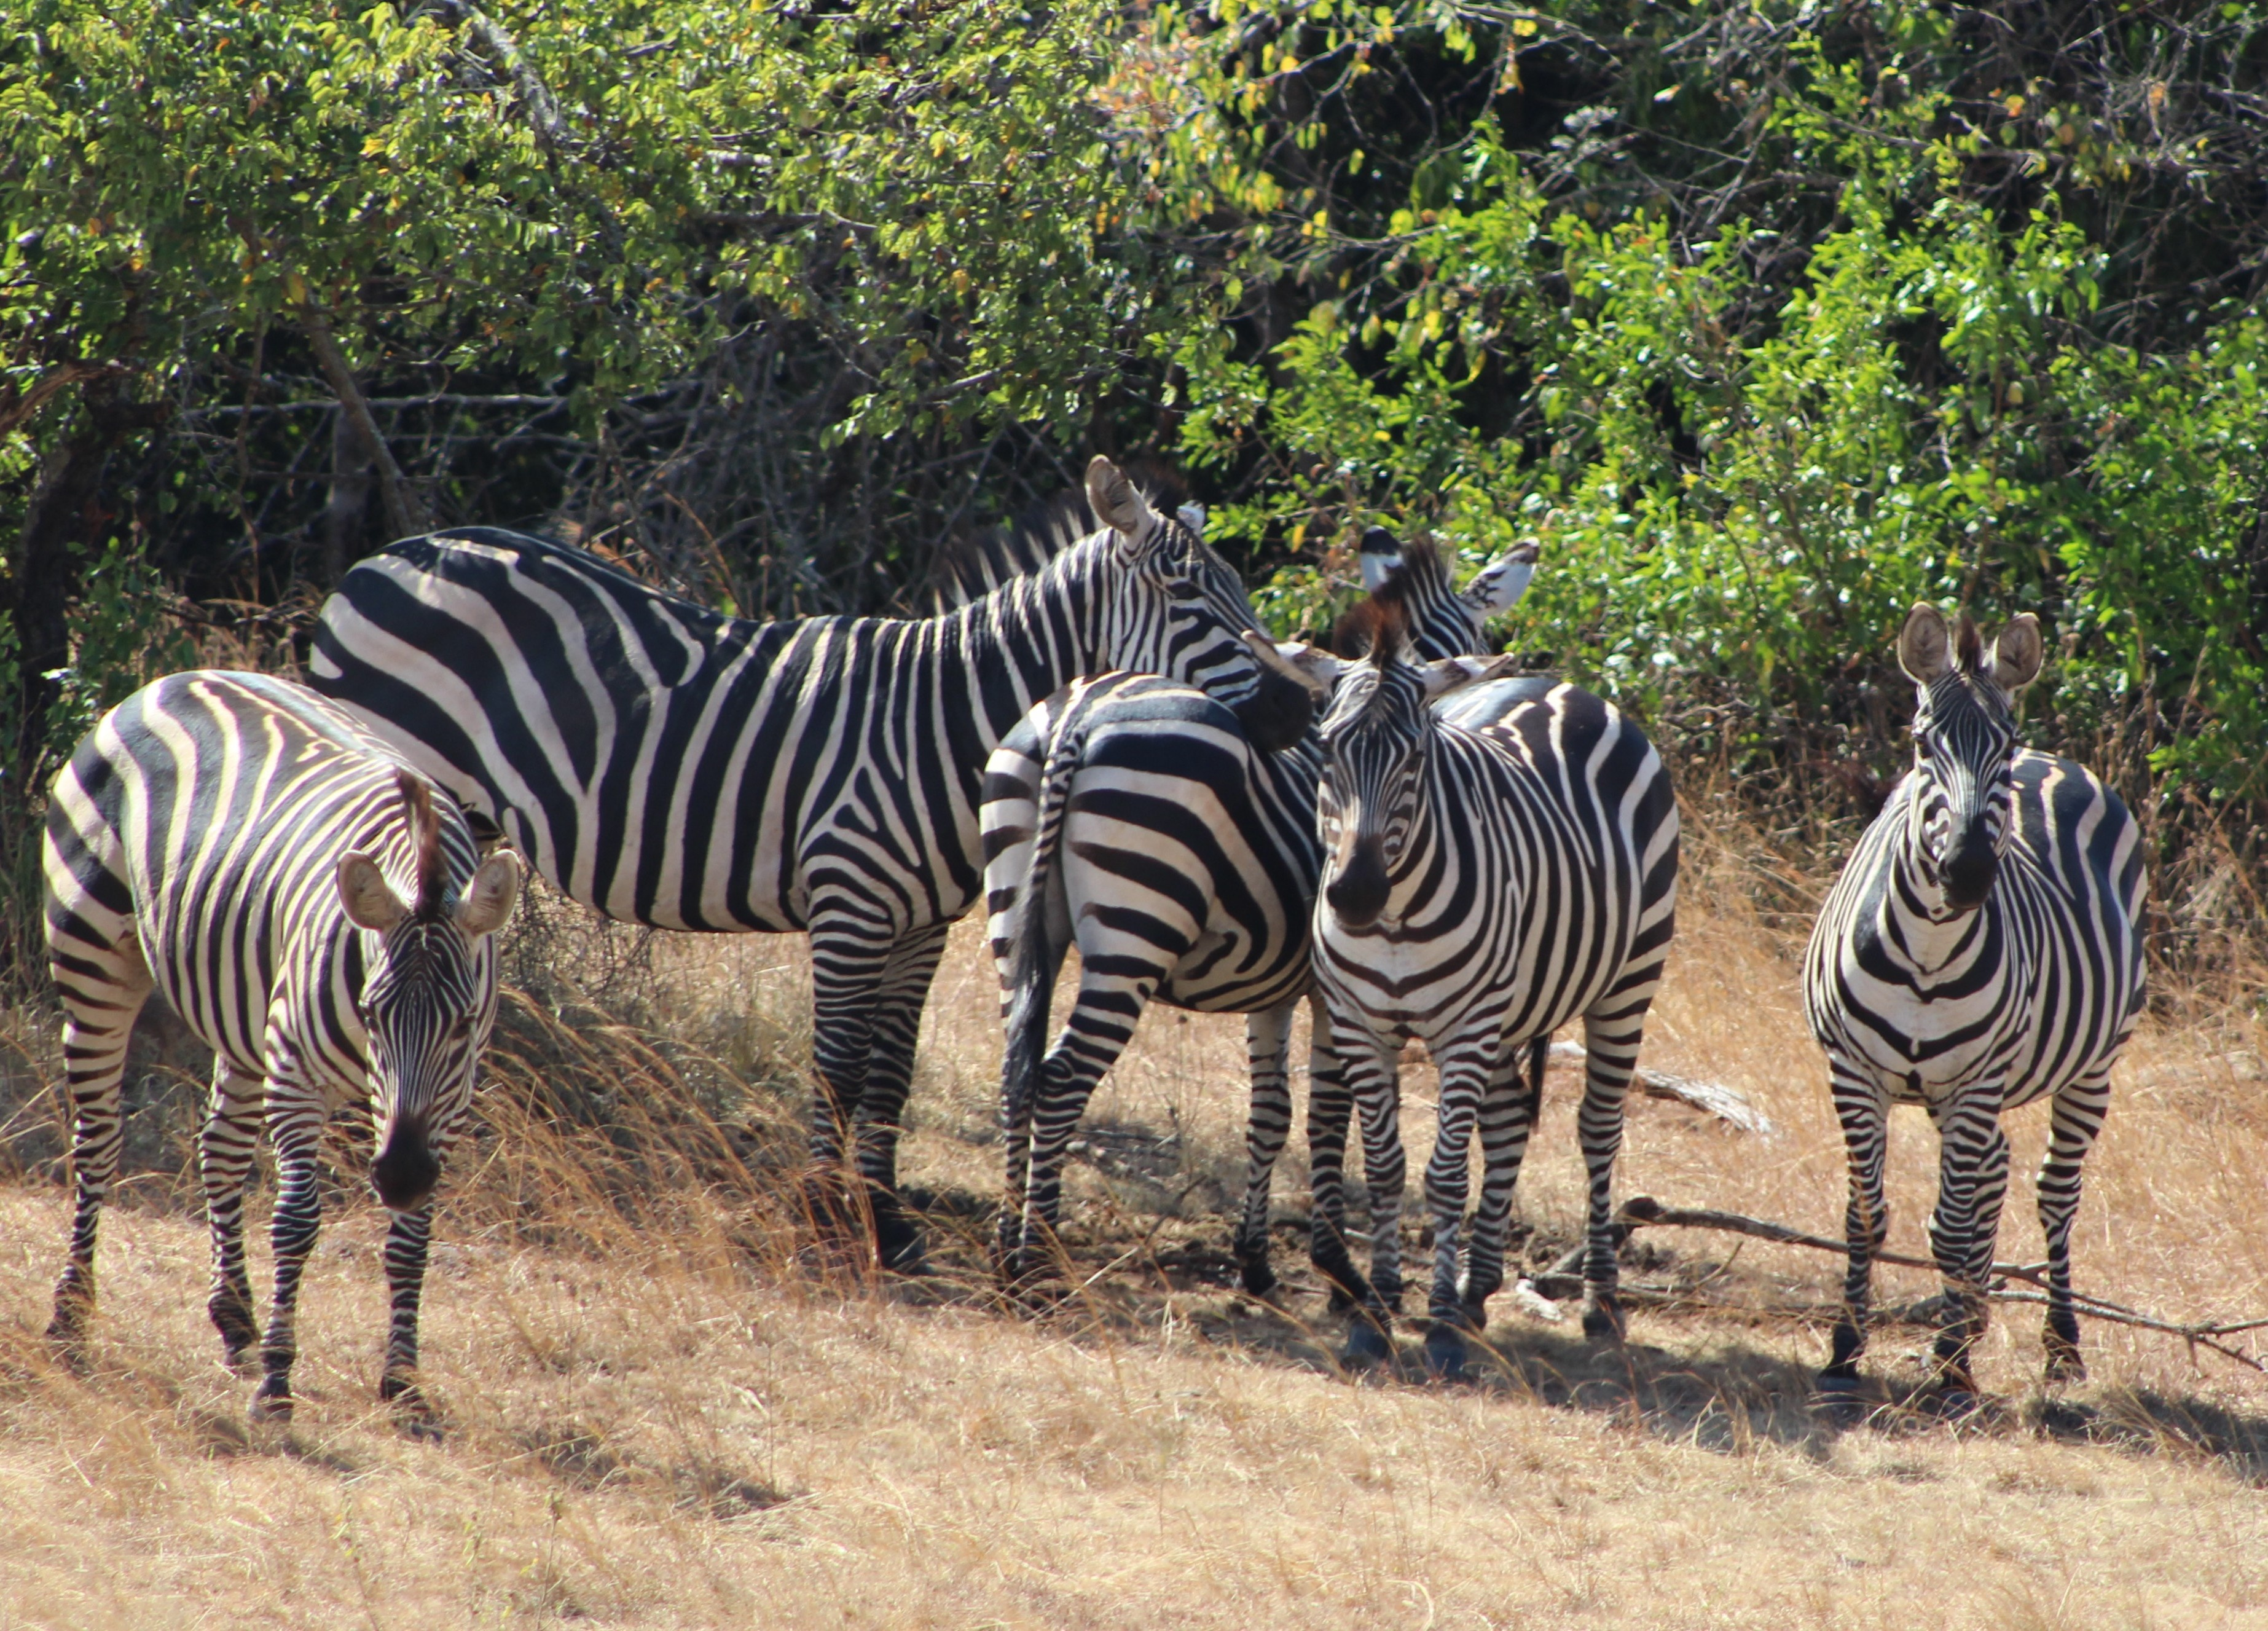zebra: (303, 444, 1312, 1319), (981, 513, 1544, 1305), (35, 639, 534, 1488), (1233, 613, 1694, 1386), (1798, 587, 2155, 1441)
